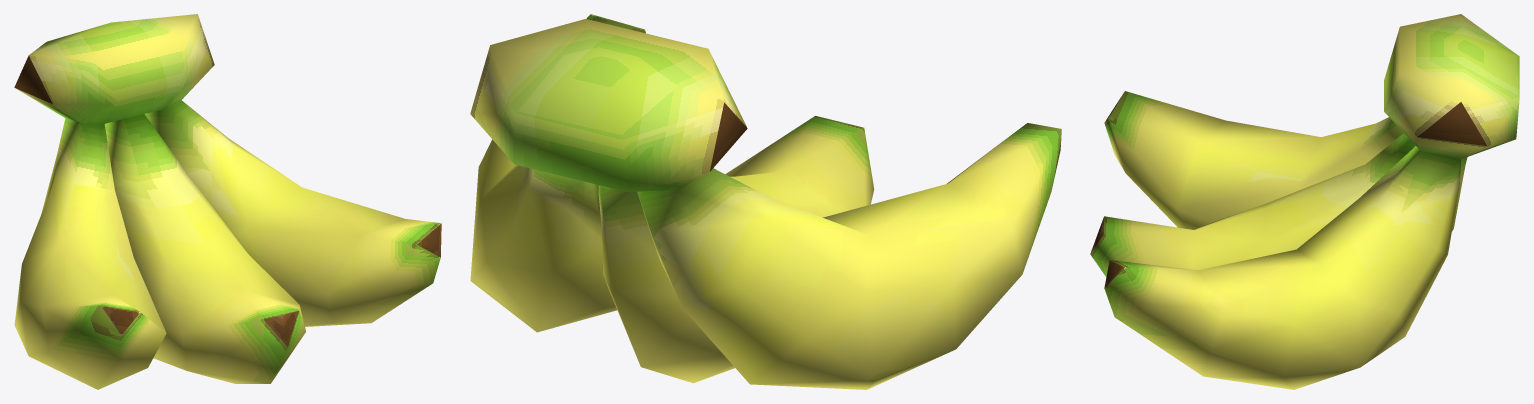
File: Banana.obj
The picture shows the model from 3 angles, left to right: view 1: azimuth 30°, elevation 25°; view 2: azimuth 150°, elevation 25°; view 3: azimuth 270°, elevation 25°; orthographic projection. The views are drawn at different scales.
Parts seen in each view (by area): view 1: n0b0; view 2: n0b0; view 3: n0b0.
Part boxes in pixels (x1,y1,x2,y2): n0b0: (14,14,441,389); n0b0: (470,14,1061,389); n0b0: (1090,14,1519,389).
Size of the model in its own units: 114 by 83.89 by 110.
Materials: 1 (1 with a texture image).
